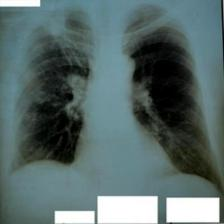tuberculosis: (1, 0, 224, 197)
